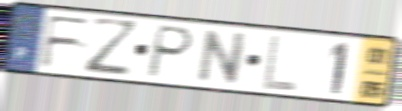1: (328, 41, 348, 96)
F: (38, 14, 94, 70)
L: (260, 33, 300, 94)
N: (194, 28, 250, 86)
P: (144, 23, 197, 81)
Z: (82, 14, 143, 77)
